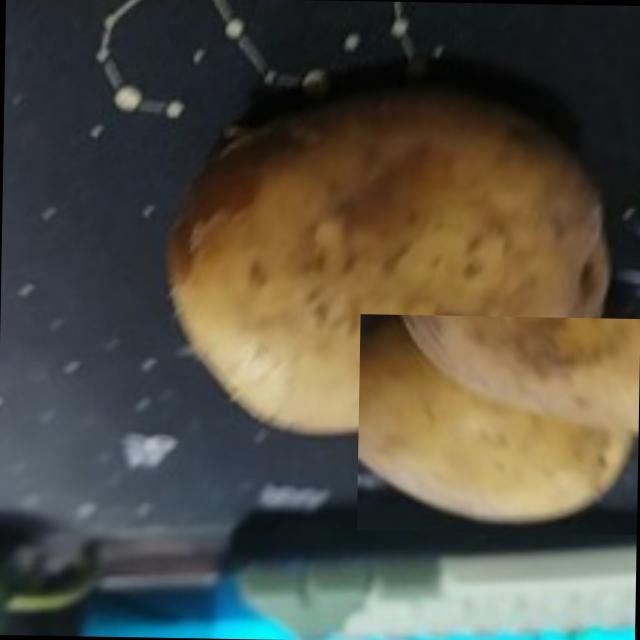Damaged potato: (151, 80, 613, 446)
Potato: (356, 314, 640, 534)
